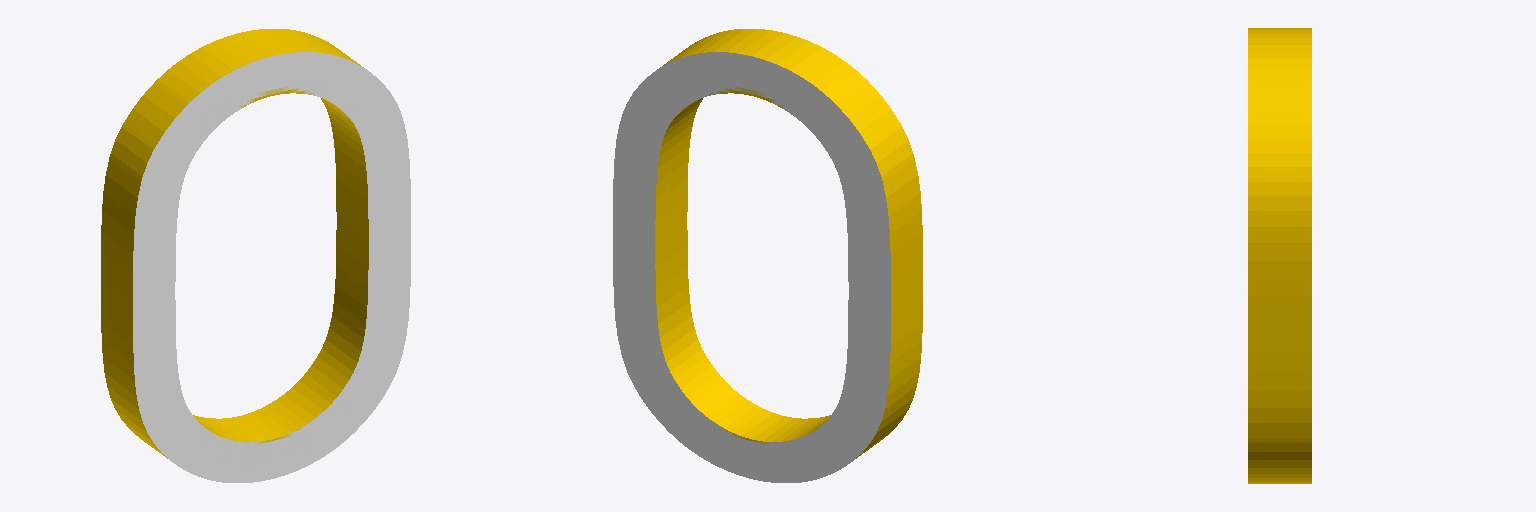
3 renders of one model, left to right at view 1: azimuth 30°, elevation 25°; view 2: azimuth 150°, elevation 25°; view 3: azimuth 270°, elevation 25°, orthographic.
Bounding box in the file's own units: 56.4 × 81.99 × 11.28.
5 materials, 1 textured.